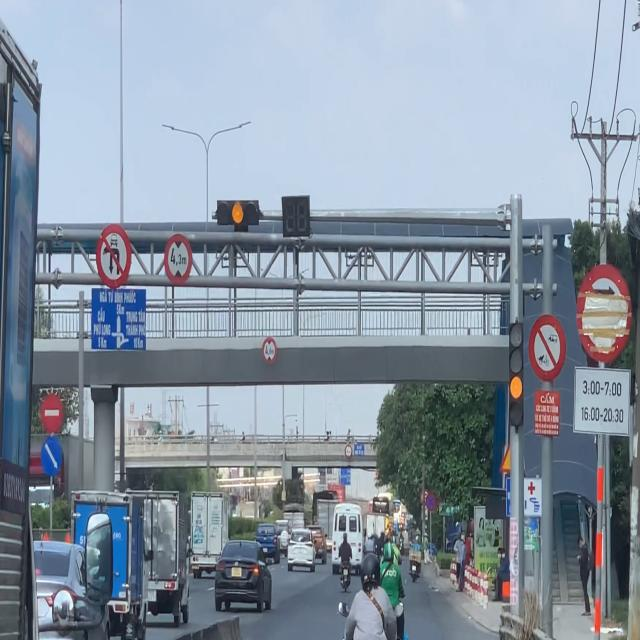Cam con lai: (528, 314, 568, 384)
Cam dung va do: (426, 492, 436, 511)
Cam nguoc chieu: (41, 392, 64, 433)
Cam quay dau xe: (96, 224, 132, 288)
Chieu cao toi da: (165, 234, 192, 285), (262, 336, 277, 364), (345, 444, 352, 458)
Hieu lenh: (40, 436, 63, 476)
